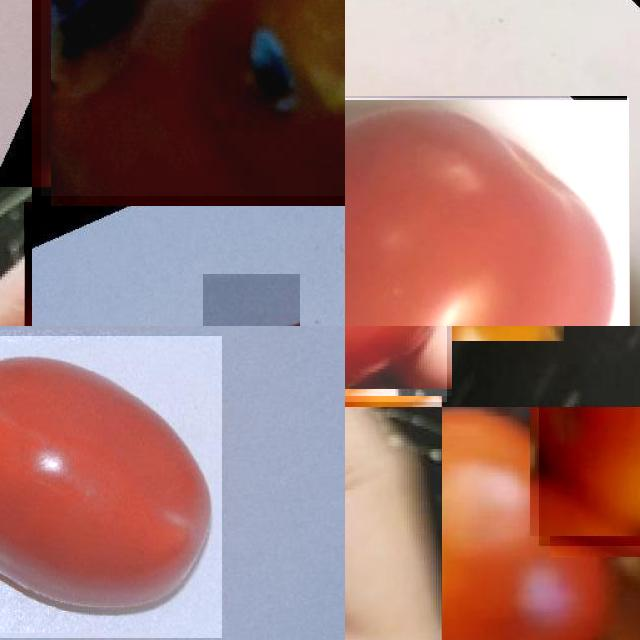0: (442, 407, 619, 640), (539, 407, 640, 546)
Fresh Tomato: (0, 335, 222, 638), (345, 97, 628, 326)
Rotten Tomato: (41, 0, 345, 196)
